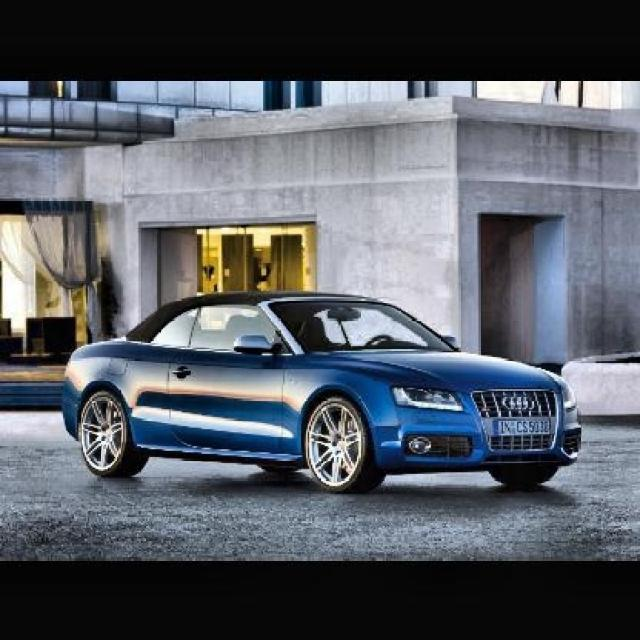blue: (60, 292, 582, 492)
